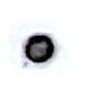cancer: (1, 14, 78, 83)
